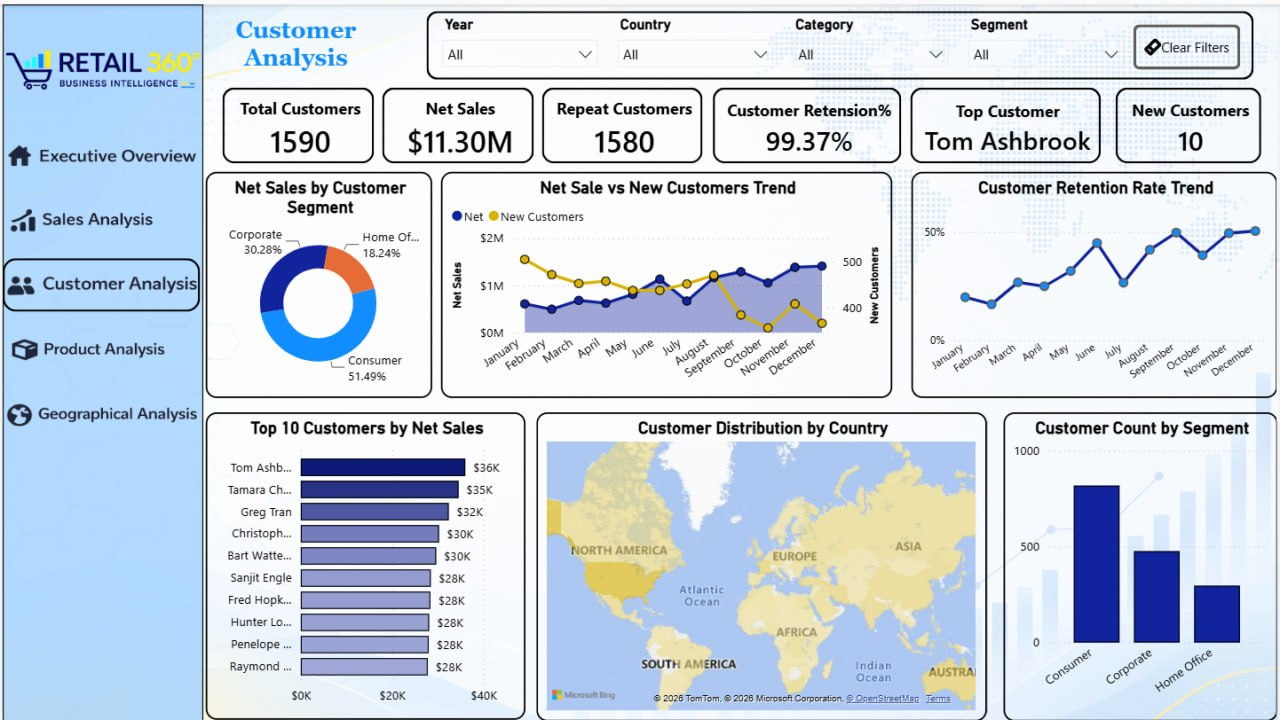

This screenshot's page, from the dashboard's own definition file:
{"tool":"powerbi","page":{"name":"Customer Analysis","canvas":[1280,720],"ordinal":2},"visuals":[{"type":"shape","box":[0,0,201.3,720],"z":0},{"type":"shape","box":[0,255.3,198,53.6],"z":1000},{"type":"image","box":[0,13.7,201.3,105.8],"z":2000},{"type":"image","box":[-0.3,120.5,201.3,64.7],"z":3000},{"type":"image","box":[-0.3,185.1,201.3,64.7],"z":4000},{"type":"image","box":[-0.3,249.8,201.3,64.7],"z":5000},{"type":"image","box":[-0.3,379.1,201.3,64.7],"z":6000},{"type":"image","box":[-0.3,314.4,201.3,64.7],"z":7000},{"type":"shape","box":[425.5,6.8,829.8,68.9],"z":8000},{"type":"slicer","fields":{"Values":["Customer.Country"]},"box":[606.7,6.8,176.4,68.9],"z":9000},{"type":"slicer","fields":{"Values":["DateTable.Year"]},"box":[430.7,6.8,176.3,57.3],"z":10000},{"type":"slicer","fields":{"Values":["Product.Category"]},"box":[782.7,6.8,176.4,68.9],"z":11000},{"type":"slicer","fields":{"Values":["Customer.Segment"]},"box":[958.7,6.8,176.4,68.9],"z":12000},{"type":"actionButton","box":[1134.7,20.5,107.5,45.4],"z":13000},{"type":"cardVisual","fields":{"Data":["Measure_Table.Net"]},"box":[364.5,67.2,186.6,110],"z":14000},{"type":"cardVisual","fields":{"Data":["Measure_Table.Repeat Customers"]},"box":[524.1,67.2,195,110],"z":15000},{"type":"cardVisual","fields":{"Data":["Project_Measures.New Customers"]},"box":[1100.3,67.2,180,110],"z":16000},{"type":"cardVisual","fields":{"Data":["Min(Customer.Customer Name)"]},"box":[893.6,67.2,225,110],"z":17000},{"type":"cardVisual","fields":{"Data":["Measure_Table.Customer Retension%"]},"box":[695.4,67.2,223,110],"z":18000},{"type":"cardVisual","fields":{"Data":["Measure_Table.Total Customers"]},"box":[203.3,67.2,186.6,110],"z":19000},{"type":"donutChart","title":"Net Sales by Customer Segment","fields":{"Y":["Measure_Table.Net"],"Category":["Customer.Segment"]},"box":[203.3,168,227,227],"z":20000},{"type":"lineChart","title":"Net Sale vs New Customers Trend","fields":{"Y":["Measure_Table.Net"],"Category":["DateTable.Month Name"],"Y2":["Measure_Table.New Customers"]},"box":[440.1,168,452.5,227],"z":21000},{"type":"clusteredBarChart","title":"Top 10 Customers by Net Sales","fields":{"Y":["Measure_Table.Net"],"Category":["Customer.Customer Name"]},"box":[203.3,409.9,320.8,309.1],"z":22000},{"type":"filledMap","title":"Customer Distribution by Country","fields":{"Category":["Customer.Country"]},"box":[535.9,409.9,452,310],"z":23000},{"type":"lineChart","title":"Customer Retention Rate Trend","fields":{"Y":["Measure_Table.Customer Retension%"],"Category":["DateTable.Month Name"]},"box":[912.1,168,367.2,227],"z":24000},{"type":"clusteredColumnChart","title":"Customer Count by Segment","fields":{"Category":["Customer.Segment"],"Y":["Project_Measures.Total Customers"]},"box":[1004.5,409.9,275.5,310.8],"z":25000},{"type":"textbox","box":[216.6,7,154.3,73.5],"z":26000}]}

Visuals, with their boxes on the page's 1280x720 design canvas (x1, y1, x2, y2). These are canvas units, not pixel positions in the 1280x720 screenshot, which may show the page scaled, cropped or inside an application window:
shape: bbox(0, 0, 201, 720)
shape: bbox(0, 255, 198, 309)
image: bbox(0, 14, 201, 120)
image: bbox(0, 120, 201, 185)
image: bbox(0, 185, 201, 250)
image: bbox(0, 250, 201, 314)
image: bbox(0, 379, 201, 444)
image: bbox(0, 314, 201, 379)
shape: bbox(426, 7, 1255, 76)
slicer - Customer.Country: bbox(607, 7, 783, 76)
slicer - DateTable.Year: bbox(431, 7, 607, 64)
slicer - Product.Category: bbox(783, 7, 959, 76)
slicer - Customer.Segment: bbox(959, 7, 1135, 76)
actionButton: bbox(1135, 20, 1242, 66)
cardVisual - Measure_Table.Net: bbox(364, 67, 551, 177)
cardVisual - Measure_Table.Repeat Customers: bbox(524, 67, 719, 177)
cardVisual - Project_Measures.New Customers: bbox(1100, 67, 1280, 177)
cardVisual - Min(Customer.Customer Name): bbox(894, 67, 1119, 177)
cardVisual - Measure_Table.Customer Retension%: bbox(695, 67, 918, 177)
cardVisual - Measure_Table.Total Customers: bbox(203, 67, 390, 177)
"Net Sales by Customer Segment" donutChart: bbox(203, 168, 430, 395)
"Net Sale vs New Customers Trend" lineChart: bbox(440, 168, 893, 395)
"Top 10 Customers by Net Sales" clusteredBarChart: bbox(203, 410, 524, 719)
"Customer Distribution by Country" filledMap: bbox(536, 410, 988, 720)
"Customer Retention Rate Trend" lineChart: bbox(912, 168, 1279, 395)
"Customer Count by Segment" clusteredColumnChart: bbox(1004, 410, 1280, 721)
textbox: bbox(217, 7, 371, 80)
